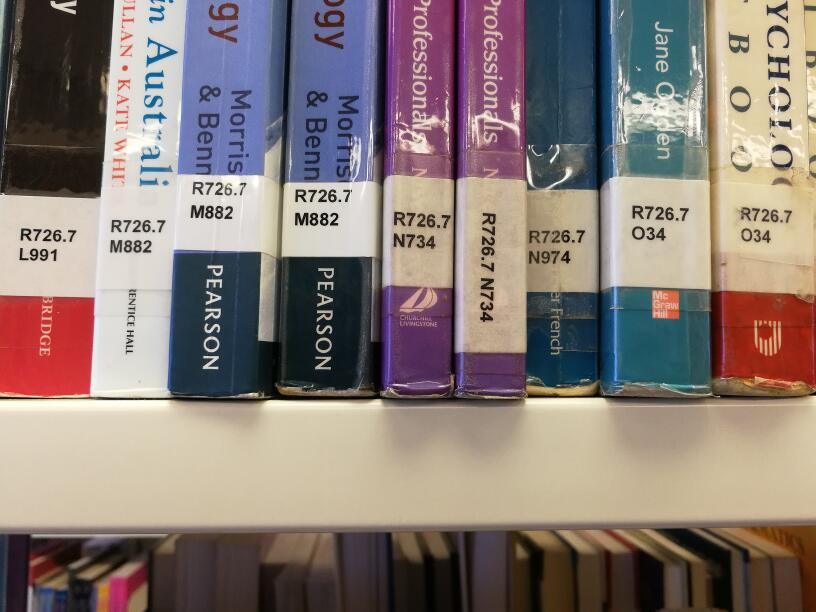booklabel: (291, 187, 353, 228), (188, 180, 247, 220), (391, 210, 450, 250), (17, 225, 78, 262), (630, 204, 690, 241), (528, 229, 588, 264), (479, 210, 497, 323), (739, 206, 793, 243), (108, 219, 166, 253)
